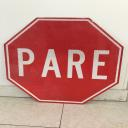Pare: (5, 16, 125, 106)
